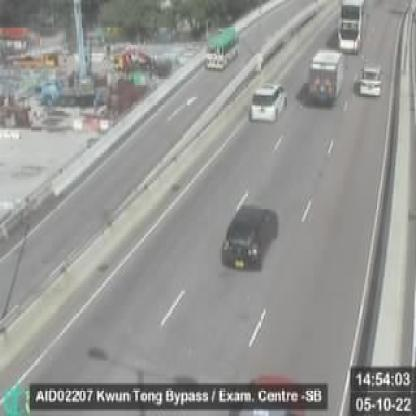Bus: (337, 0, 368, 54)
Car: (219, 204, 278, 270), (251, 83, 287, 125), (360, 62, 384, 99)
Minibus: (207, 26, 238, 69)
Truck: (307, 49, 342, 104)
